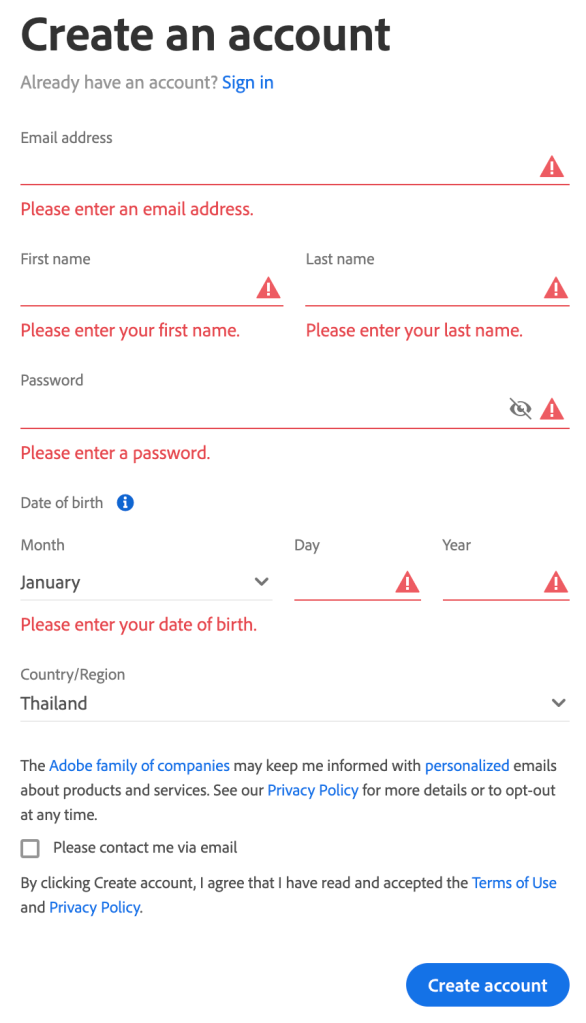error_field: (15, 150, 570, 189), (15, 393, 570, 431), (17, 265, 286, 310), (302, 269, 570, 310), (439, 565, 576, 604), (293, 565, 420, 603)
error_message: (15, 194, 256, 222), (19, 318, 247, 343), (302, 319, 529, 344), (16, 614, 259, 636), (16, 443, 215, 466)
